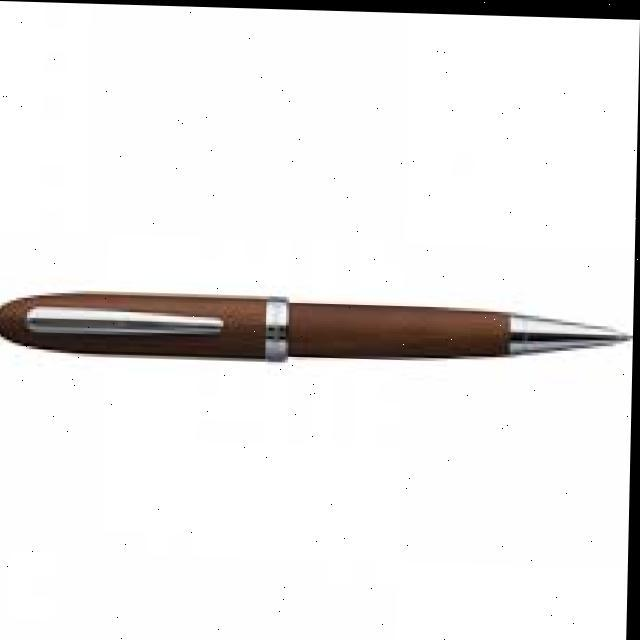pen: (0, 287, 632, 373)
